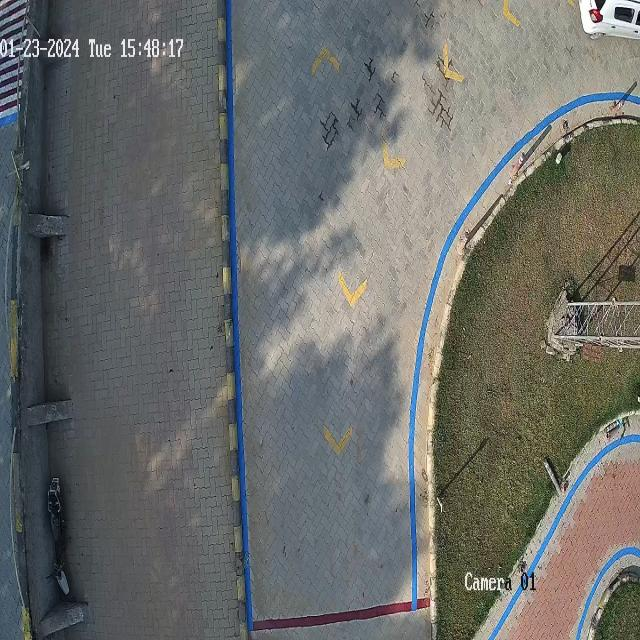car: (578, 0, 640, 40)
